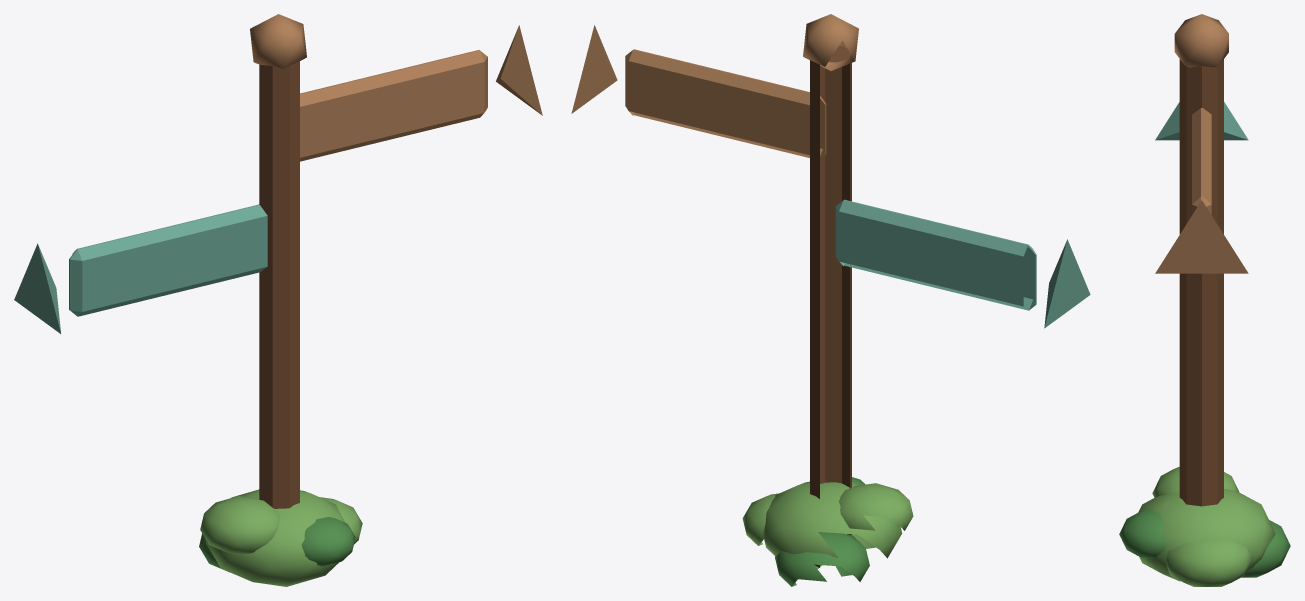
The model's file is ac_signpost.glb.
The picture shows the model from 3 angles, left to right: view 1: azimuth 30°, elevation 25°; view 2: azimuth 150°, elevation 25°; view 3: azimuth 270°, elevation 25°; orthographic projection.
Parts seen in each view (by area): view 1: cyl; view 2: cyl; view 3: cyl.
Part boxes in pixels (bbox=[...]): cyl: bbox=[14, 14, 542, 586]; cyl: bbox=[571, 14, 1090, 586]; cyl: bbox=[1119, 14, 1290, 586].
Size of the model in its own units: 2.25 by 2.51 by 0.6971.
